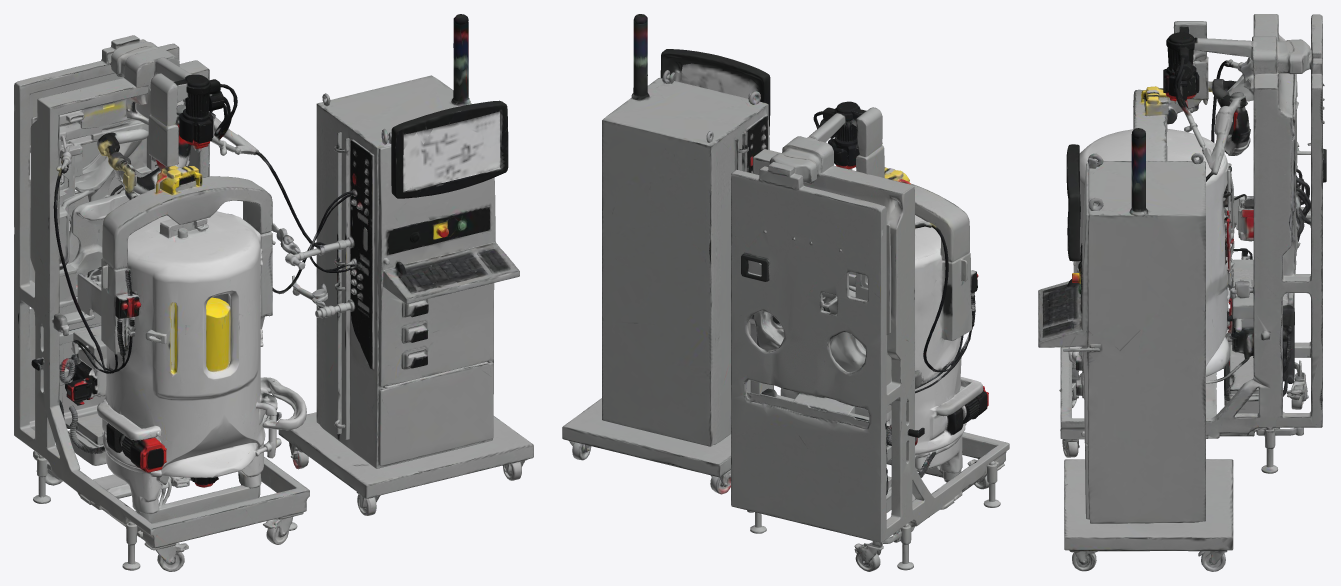
File: bioreactor.glb
3 views of the same model, side by side, from view 1: azimuth 30°, elevation 25°; view 2: azimuth 150°, elevation 25°; view 3: azimuth 270°, elevation 25° (orthographic). The views are drawn at different scales.
Parts seen in each view (by area): view 1: bioreactor; view 2: bioreactor; view 3: bioreactor.
Part boxes in pixels (x1,y1,x2,y2): bioreactor: (14, 14, 533, 571); bioreactor: (562, 14, 1009, 571); bioreactor: (1038, 14, 1326, 571).
Bounding box in the file's own units: 0.9337 × 0.9999 × 0.6067.
1 material, 1 textured.
